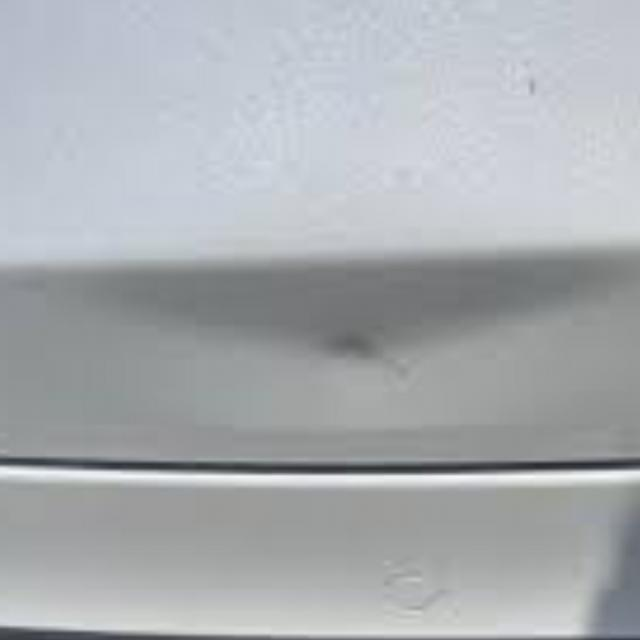dents: (252, 299, 462, 398)
